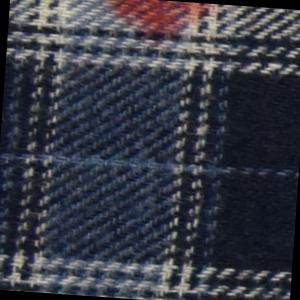Stain: (96, 1, 223, 59)
